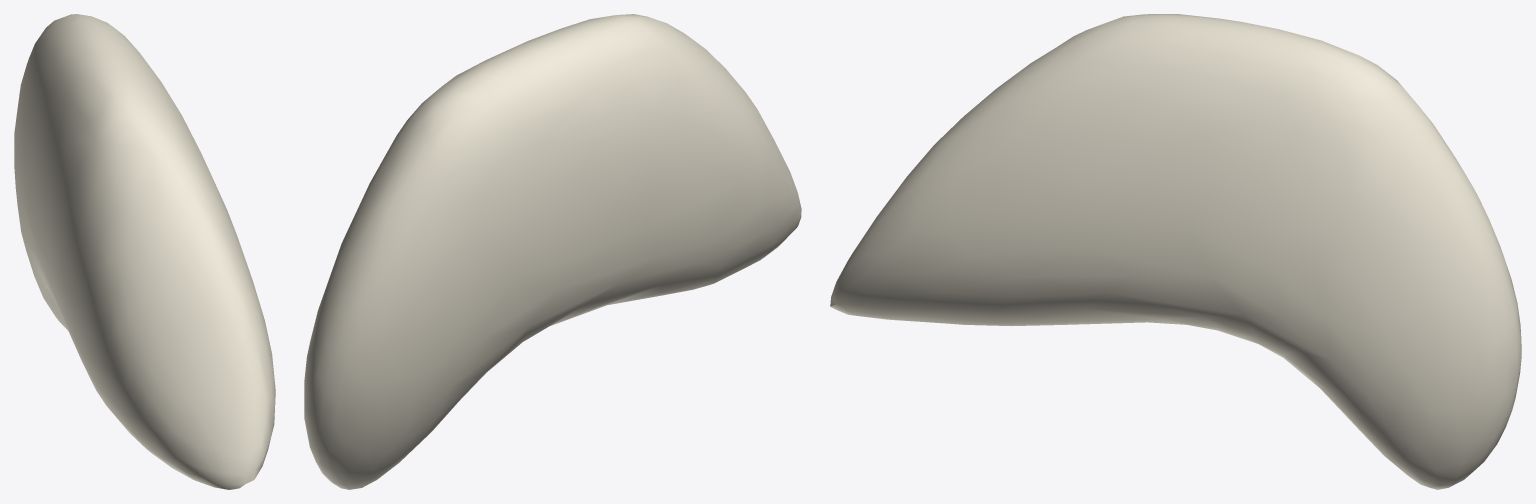
Rendered from fma59509_mm2113.glb.
3 views of the same model, side by side, from view 1: azimuth 30°, elevation 25°; view 2: azimuth 150°, elevation 25°; view 3: azimuth 270°, elevation 25° (orthographic). The views are drawn at different scales.
Parts seen in each view (by area): view 1: FMA59509_MM2113; view 2: FMA59509_MM2113; view 3: FMA59509_MM2113.
Part boxes in pixels (left/top/right/bottom): FMA59509_MM2113: left=14, top=14, right=275, bottom=489; FMA59509_MM2113: left=304, top=14, right=801, bottom=489; FMA59509_MM2113: left=830, top=14, right=1521, bottom=489.
Size of the model in its own units: 0.0043 by 0.00675 by 0.0102.
